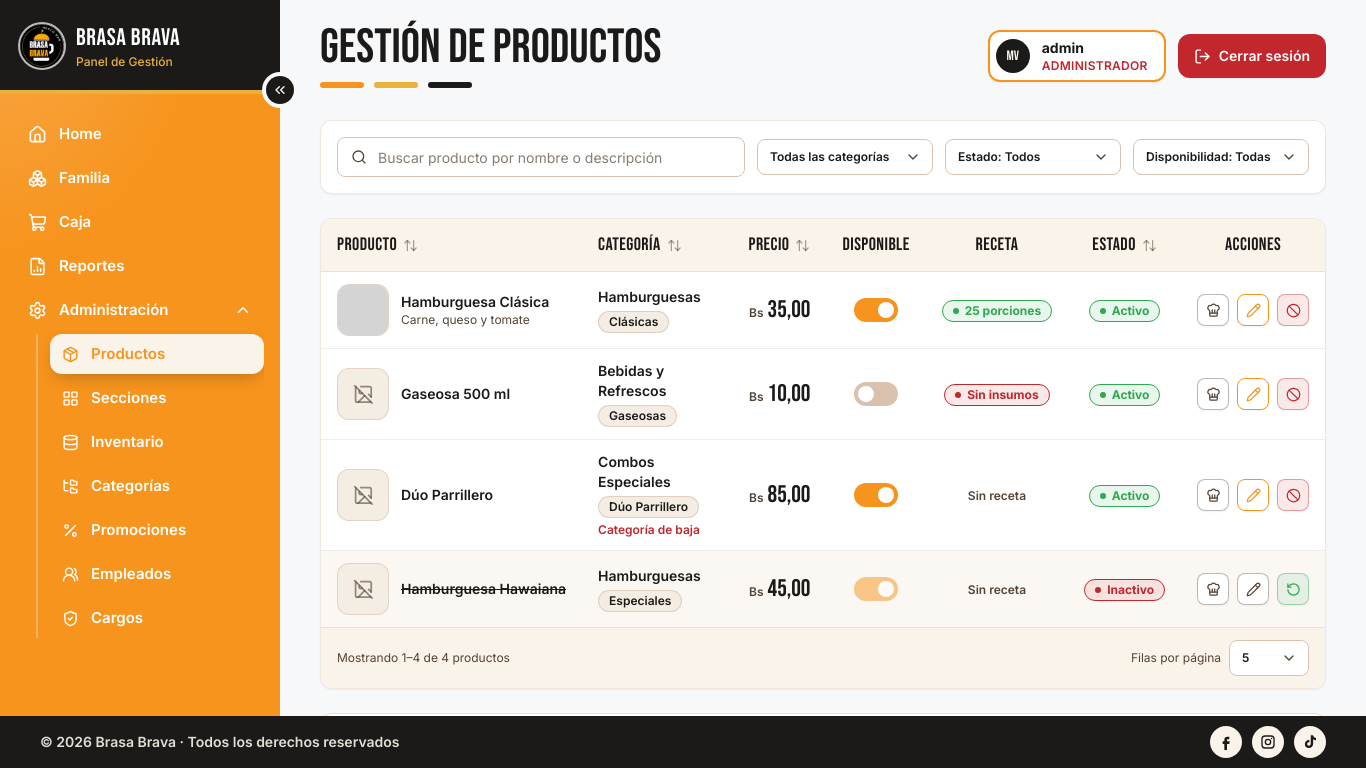
Test: Gestión de productos › marca un producto como agotado con el interruptor
The image size is (1366, 768).
Expected: the text "Hamburguesa Clásica" is shown, [401,292,549,312]
Click the switch named "Hamburguesa Clásica disponible": (876, 310) [854,298,898,322]
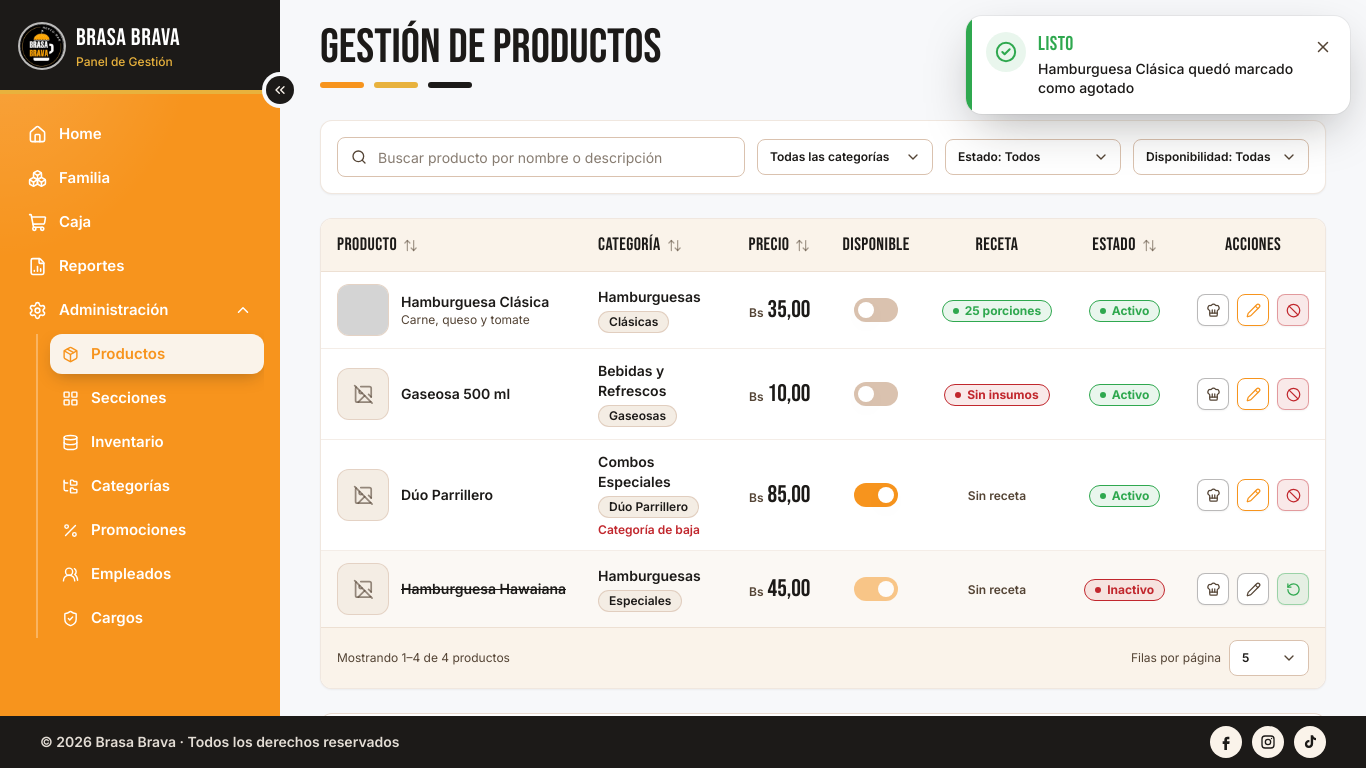
Now the text "Hamburguesa Clásica quedó marcado como agotado" is shown, box [1038,59,1296,98]
